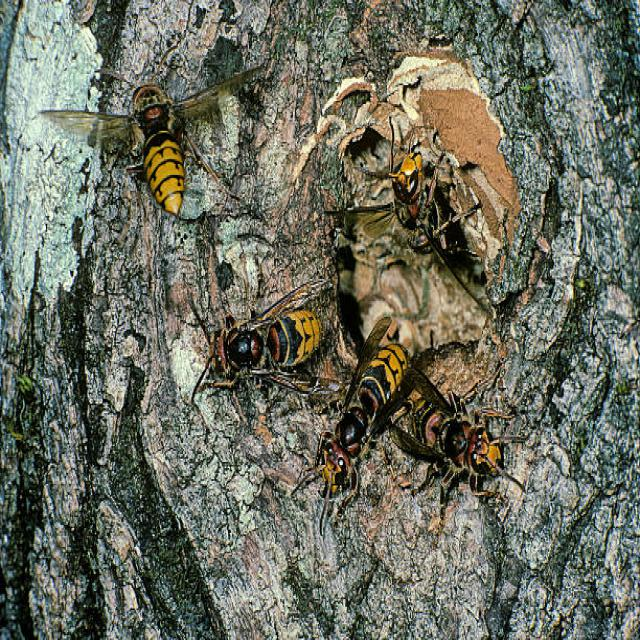Vespa Crabro: (39, 50, 277, 210), (280, 304, 414, 493), (390, 356, 533, 509), (194, 280, 333, 399), (377, 146, 474, 274)
